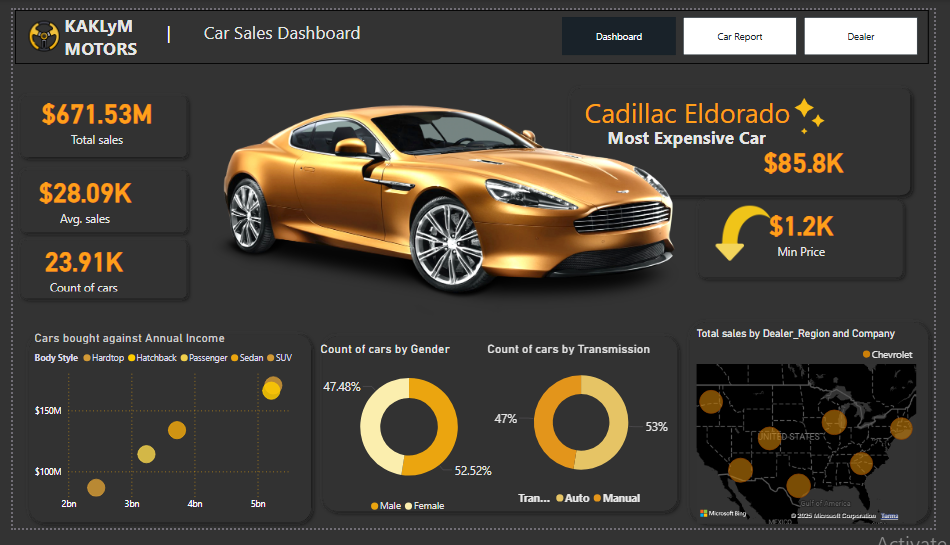

The page's visual inventory and layout, read from the dashboard file:
{"tool":"powerbi","page":{"name":"Dashboard","canvas":[1280,720],"ordinal":0},"visuals":[{"type":"shape","box":[2.8,0,1268.8,74.6],"z":0,"group":"g1"},{"type":"textbox","box":[207.7,10.2,430.2,68.8],"z":1000,"group":"g1"},{"type":"textbox","box":[67.2,0,122.9,74.6],"z":2000,"group":"g1"},{"type":"image","box":[2.8,10.2,80.5,52.7],"z":3000,"group":"g1"},{"type":"shape","box":[2.8,111.2,247.3,102.4],"z":4000,"group":"g1"},{"type":"shape","box":[2.8,213.7,247.3,103.9],"z":5000,"group":"g1"},{"type":"shape","box":[766.6,99.6,488.9,166.1],"z":6000,"group":"g1"},{"type":"shape","box":[2.8,311.7,247.3,98],"z":7000,"group":"g1"},{"type":"image","box":[248.9,44.4,705.6,473.6],"z":8000,"group":"g1"},{"type":"card","fields":{"Values":["car sales.Total sales"]},"box":[24.8,111.2,182.9,80.5],"z":9000,"group":"g1"},{"type":"card","fields":{"Values":["car sales.Avg. sales"]},"box":[10.1,213.7,180,93.7],"z":10000,"group":"g1"},{"type":"card","fields":{"Values":["car sales.Count of cars"]},"box":[2.8,317.6,190.2,77.6],"z":11000,"group":"g1"},{"type":"shape","box":[13.5,441.6,409.4,278.9],"z":12000,"group":"g1"},{"type":"shape","box":[422.8,444.9,509.3,260.5],"z":13000,"group":"g1"},{"type":"shape","box":[932.4,425.5,348.6,295],"z":14000,"group":"g1"},{"type":"textbox","box":[821.1,155.4,245.8,63.8],"z":15000,"group":"g1"},{"type":"textbox","box":[789.2,112.9,374.6,77],"z":16000,"group":"g1"},{"type":"card","fields":{"Values":["car sales.Most expensive car"]},"box":[1031,183.3,134.2,51.8],"z":17000,"group":"g1"},{"type":"donutChart","fields":{"Y":["car sales.Count of cars"],"Category":["Customer.Gender"]},"box":[422.9,459.4,255.6,248.5],"z":18000,"group":"g1"},{"type":"map","fields":{"Category":["Dealers.Dealer_Region"],"Size":["car sales.Total sales"],"Series":["Cars.Company"]},"box":[944.9,441.6,314.6,277.1],"z":19000,"group":"g1"},{"type":"image","box":[1072.2,108.9,67.7,78.4],"z":20000,"group":"g1"},{"type":"textbox","box":[1031,10.6,180.7,63.8],"z":22000,"group":"g1"},{"type":"shape","box":[944.9,255.6,300.3,125.1],"z":23000,"group":"g1"},{"type":"card","title":"Least Price","fields":{"Values":["car sales.Min Price"]},"box":[977.1,255.6,236,101.9],"z":24000,"group":"g1"},{"type":"image","box":[970,252.1,89.4,116.2],"z":25000,"group":"g1"},{"type":"donutChart","fields":{"Y":["car sales.Count of cars"],"Category":["Cars.Transmission"]},"box":[654.2,459.6,269.7,237.8],"z":27000,"group":"g1"},{"type":"scatterChart","title":"Cars bought against Annual Income","fields":{"Y":["car sales.Total sales"],"X":["Sum(car sales.Annual Income)"],"Series":["Cars.Body Style"],"Size":["CountNonNull(Dealers.Dealer_No )"]},"box":[24.8,445,374.6,260.4],"z":28000,"group":"g1"},{"type":"pageNavigator","box":[762.8,10,496.7,53.3],"z":29000,"group":"g1"},{"type":"group","id":"g1","title":"Group 1","box":[2.8,0,1278.2,720.4],"z":29001}]}

Visuals, with their boxes in screenshot pixels (x1, y1, x2, y2), scaled from the page's 1280x720 canvas onto the 950x545 screenshot:
shape: <region>2, 0, 944, 56</region>
textbox: <region>154, 8, 473, 60</region>
textbox: <region>50, 0, 141, 56</region>
image: <region>2, 8, 62, 48</region>
shape: <region>2, 84, 186, 162</region>
shape: <region>2, 162, 186, 240</region>
shape: <region>569, 75, 932, 201</region>
shape: <region>2, 236, 186, 310</region>
image: <region>185, 34, 708, 392</region>
card - car sales.Total sales: <region>18, 84, 154, 145</region>
card - car sales.Avg. sales: <region>7, 162, 141, 233</region>
card - car sales.Count of cars: <region>2, 240, 143, 299</region>
shape: <region>10, 334, 314, 544</region>
shape: <region>314, 337, 692, 534</region>
shape: <region>692, 322, 949, 544</region>
textbox: <region>609, 118, 792, 166</region>
textbox: <region>586, 85, 864, 144</region>
card - car sales.Most expensive car: <region>765, 139, 865, 178</region>
donutChart - car sales.Count of cars x Customer.Gender: <region>314, 348, 504, 536</region>
map - Dealers.Dealer_Region x car sales.Total sales: <region>701, 334, 935, 544</region>
image: <region>796, 82, 846, 142</region>
textbox: <region>765, 8, 899, 56</region>
shape: <region>701, 193, 924, 288</region>
"Least Price" card: <region>725, 193, 900, 271</region>
image: <region>720, 191, 786, 279</region>
donutChart - car sales.Count of cars x Cars.Transmission: <region>486, 348, 686, 528</region>
"Cars bought against Annual Income" scatterChart: <region>18, 337, 296, 534</region>
pageNavigator: <region>566, 8, 935, 48</region>
"Group 1" group: <region>2, 0, 949, 544</region>
